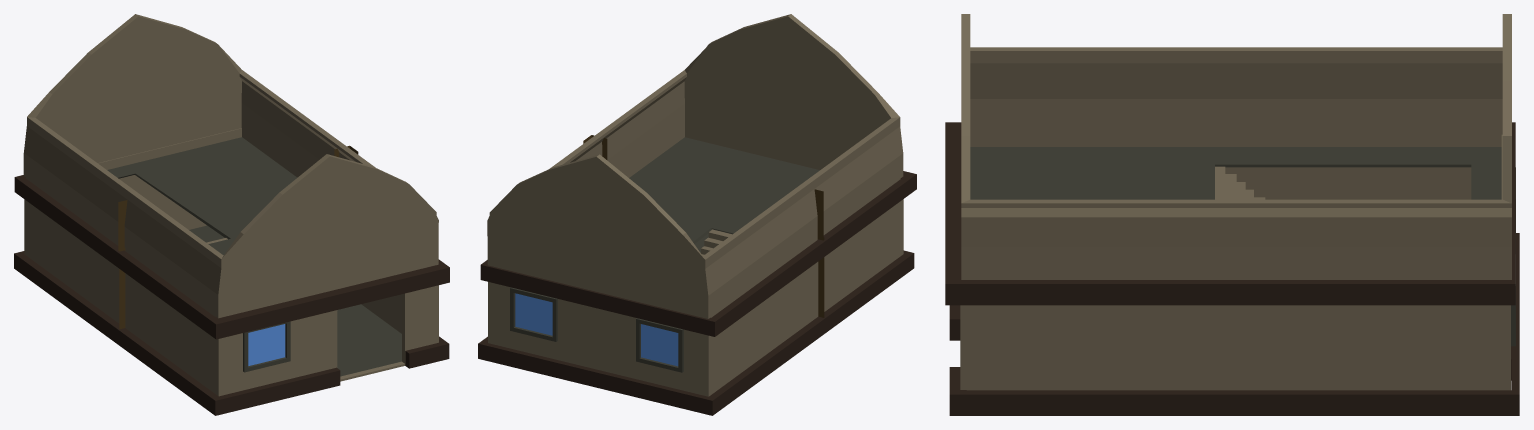
File: CajaCasa 2.4 Interior 2.fbx
3 views of the same model, side by side, from view 1: azimuth 30°, elevation 25°; view 2: azimuth 150°, elevation 25°; view 3: azimuth 270°, elevation 25° (orthographic). The views are drawn at different scales.
Visible parts, largest first — view 1: Ventana 4.004; view 2: Ventana 4.004; view 3: Ventana 4.004.
Boxes of the visible parts, x1,y1,x2,y2 form: Ventana 4.004: (14, 14, 449, 415); Ventana 4.004: (478, 14, 916, 415); Ventana 4.004: (945, 14, 1519, 415).
Size of the model in its own units: 726 by 687 by 1087.
